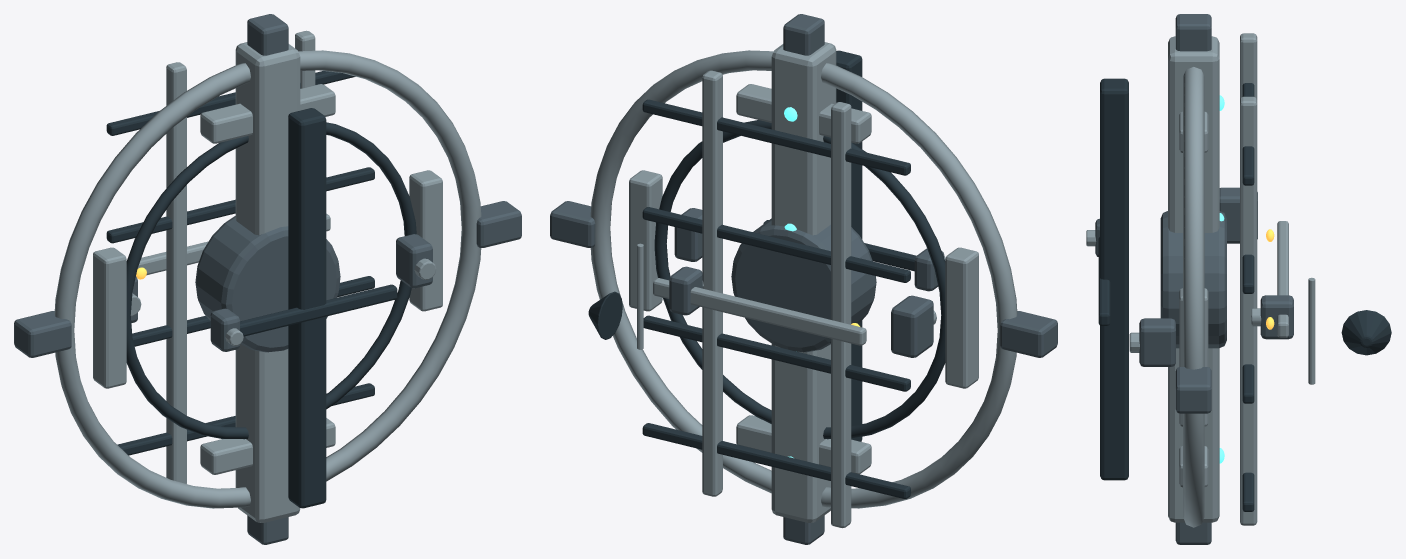
File: orbital_shipyard.glb
3 views of the same model, side by side, from view 1: azimuth 30°, elevation 25°; view 2: azimuth 150°, elevation 25°; view 3: azimuth 270°, elevation 25° (orthographic).
Parts seen in each view (by area): view 1: shipyard_construction_ring, shipyard_main_spine, shipyard_lower_spine, shipyard_core, shipyard_service_ring, shipyard_gantry_rail, shipyard_docking_arm.002, shipyard_docking_arm, shipyard_docking_arm.001, shipyard_service_bridge_low, shipyard_docking_clamp.002, shipyard_docking_arm.003 (+12 smaller); view 2: shipyard_construction_ring, shipyard_main_spine, shipyard_core, shipyard_gantry_rail.001, shipyard_gantry_rail, shipyard_service_ring, shipyard_docking_arm.002, shipyard_service_bridge, shipyard_docking_arm, shipyard_lower_spine, shipyard_service_module_0, shipyard_docking_clamp.002 (+19 smaller); view 3: shipyard_lower_spine, shipyard_main_spine, shipyard_construction_ring, shipyard_gantry_rail.001, shipyard_core, shipyard_service_module_1, shipyard_sensor_dish, shipyard_docking_clamp, shipyard_docking_clamp.001, shipyard_service_bridge, shipyard_service_module_3, shipyard_gantry_rail (+9 smaller).
Part boxes in pixels (<box>): shipyard_construction_ring: <box>54,50,481,508</box>; shipyard_main_spine: <box>235,42,300,522</box>; shipyard_lower_spine: <box>288,108,326,508</box>; shipyard_core: <box>195,216,340,352</box>; shipyard_service_ring: <box>126,122,416,439</box>; shipyard_gantry_rail: <box>166,62,186,483</box>; shipyard_docking_arm.002: <box>93,247,126,388</box>; shipyard_docking_arm: <box>409,170,442,311</box>; shipyard_docking_arm.001: <box>200,84,335,143</box>; shipyard_service_bridge_low: <box>240,284,397,336</box>; shipyard_docking_clamp.002: <box>14,311,71,357</box>; shipyard_docking_arm.003: <box>200,418,335,474</box>; shipyard_construction_ring: <box>590,50,1017,508</box>; shipyard_main_spine: <box>771,42,836,522</box>; shipyard_core: <box>731,218,876,352</box>; shipyard_gantry_rail.001: <box>702,70,722,496</box>; shipyard_gantry_rail: <box>831,102,851,528</box>; shipyard_service_ring: <box>654,120,945,439</box>; shipyard_docking_arm.002: <box>945,247,978,388</box>; shipyard_service_bridge: <box>653,278,866,345</box>; shipyard_docking_arm: <box>629,170,662,311</box>; shipyard_lower_spine: <box>836,50,862,441</box>; shipyard_service_module_0: <box>891,295,933,357</box>; shipyard_docking_clamp.002: <box>1000,311,1057,357</box>; shipyard_lower_spine: <box>1100,78,1128,480</box>; shipyard_main_spine: <box>1168,36,1219,522</box>; shipyard_construction_ring: <box>1183,67,1204,527</box>; shipyard_gantry_rail.001: <box>1240,96,1257,525</box>; shipyard_core: <box>1160,211,1226,348</box>; shipyard_service_module_1: <box>1139,318,1175,366</box>; shipyard_sensor_dish: <box>1341,310,1391,355</box>; shipyard_docking_clamp: <box>1175,367,1211,413</box>; shipyard_docking_clamp.001: <box>1175,14,1211,51</box>; shipyard_service_bridge: <box>1277,221,1288,337</box>; shipyard_service_module_3: <box>1260,295,1293,339</box>; shipyard_gantry_rail: <box>1240,33,1257,99</box>.
Size of the model in its own units: 3.99 by 3.99 by 2.12.
